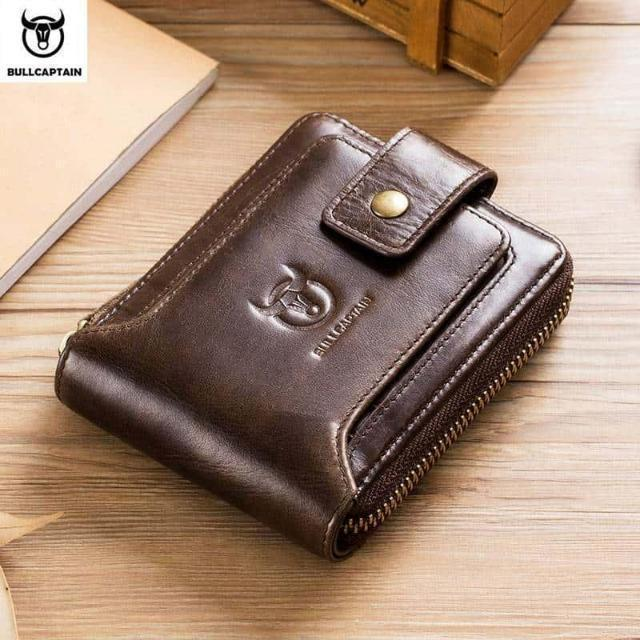Wallet: (56, 114, 572, 558)
